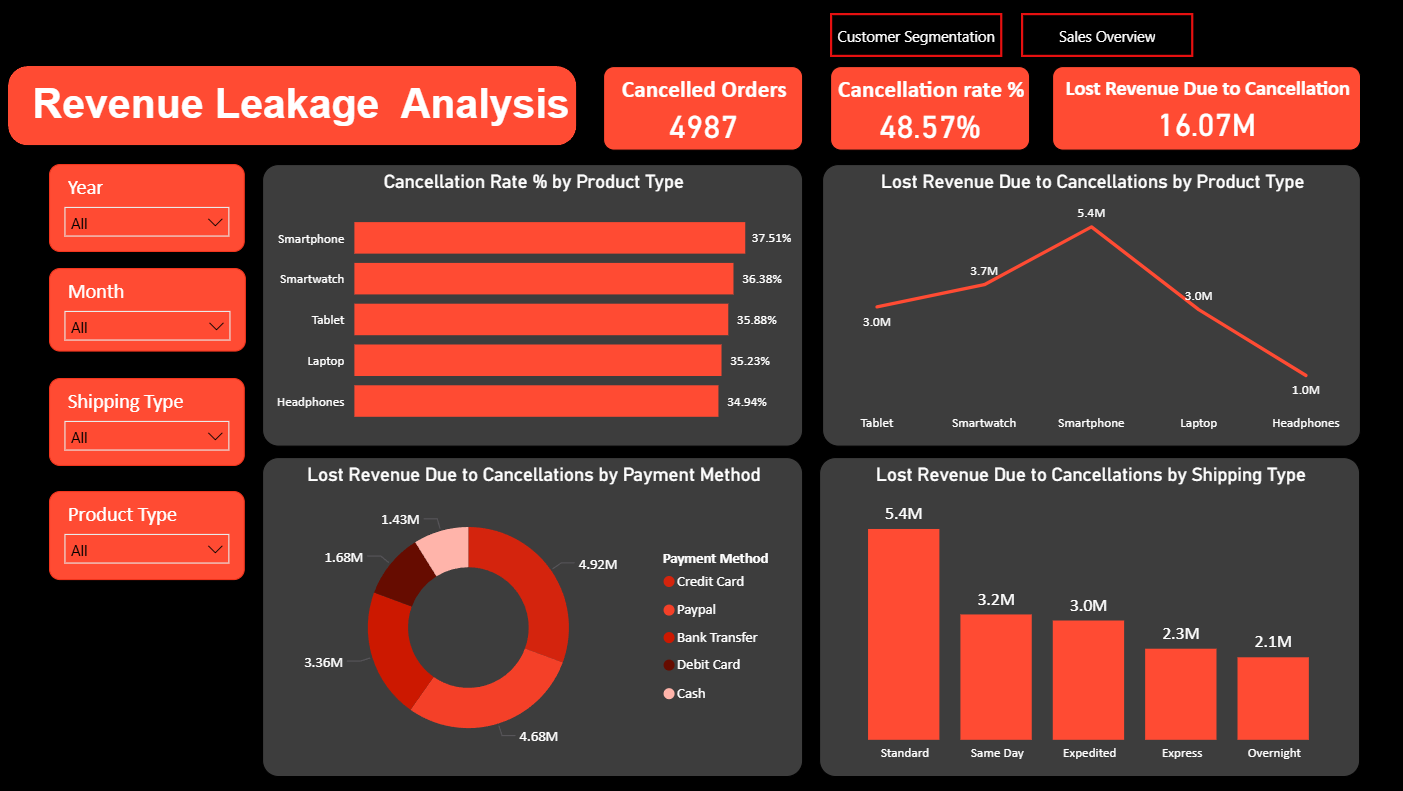

This screenshot's page, from the dashboard's own definition file:
{"tool":"powerbi","page":{"name":"Revenue Leakage","canvas":[1280,720],"ordinal":2},"visuals":[{"type":"card","title":"Cancelled Orders","fields":{"Values":["_measures.Cancelled Orders Count"]},"box":[550,60,182.2,76.7],"z":0},{"type":"card","title":"Cancellation rate %","fields":{"Values":["_measures.Cancellation Rate %"]},"box":[756.7,60,182.2,76.7],"z":1000},{"type":"card","title":"Lost Revenue Due to Cancellation","fields":{"Values":["_measures.Lost Revenue Due to Cancellations"]},"box":[957.8,60,281.1,76.7],"z":2000},{"type":"donutChart","fields":{"Category":["Electronics Sales.Payment Method"],"Y":["_measures.Lost Revenue Due to Cancellations"]},"box":[240.1,415.6,492.2,291.1],"z":3000},{"type":"lineChart","fields":{"Category":["Electronics Sales.Product Type"],"Y":["_measures.Lost Revenue Due to Cancellations"]},"box":[749,148.9,490,256.7],"z":4000},{"type":"clusteredColumnChart","fields":{"Category":["Electronics Sales.Shipping Type"],"Y":["_measures.Lost Revenue Due to Cancellations"]},"box":[746.8,415.6,492.2,291.1],"z":5000},{"type":"clusteredBarChart","fields":{"Category":["Electronics Sales.Product Type"],"Y":["_measures.Cancellation Rate %"]},"box":[240.1,148.9,492.2,256.7],"z":6000},{"type":"shape","box":[8.9,60,516.7,72.2],"z":7000},{"type":"slicer","fields":{"Values":["Electronics Sales.Product Type"]},"box":[46.7,446.7,177.8,81.1],"z":8000},{"type":"slicer","fields":{"Values":["Electronics Sales.Shipping Type"]},"box":[46.7,343.3,177.8,80],"z":9000},{"type":"slicer","fields":{"Values":["Date Table.Year"]},"box":[46.7,148.9,177.8,80],"z":10000},{"type":"textbox","box":[26.7,67.8,605.6,81.1],"z":11000},{"type":"slicer","fields":{"Values":["Date Table.Month"]},"box":[46.7,243.3,178.9,75.6],"z":12000},{"type":"actionButton","box":[756.7,12.2,156.7,40],"z":13000},{"type":"actionButton","box":[930,12.2,156.7,40],"z":14000}]}

Visuals, with their boxes in screenshot pixels (x1, y1, x2, y2), scaled from the page's 1280x720 canvas onto the 1403x791 screenshot:
"Cancelled Orders" card: rect(603, 66, 803, 150)
"Cancellation rate %" card: rect(829, 66, 1029, 150)
"Lost Revenue Due to Cancellation" card: rect(1050, 66, 1358, 150)
donutChart - Electronics Sales.Payment Method x _measures.Lost Revenue Due to Cancellations: rect(263, 457, 803, 776)
lineChart - Electronics Sales.Product Type x _measures.Lost Revenue Due to Cancellations: rect(821, 164, 1358, 446)
clusteredColumnChart - Electronics Sales.Shipping Type x _measures.Lost Revenue Due to Cancellations: rect(819, 457, 1358, 776)
clusteredBarChart - Electronics Sales.Product Type x _measures.Cancellation Rate %: rect(263, 164, 803, 446)
shape: rect(10, 66, 576, 145)
slicer - Electronics Sales.Product Type: rect(51, 491, 246, 580)
slicer - Electronics Sales.Shipping Type: rect(51, 377, 246, 465)
slicer - Date Table.Year: rect(51, 164, 246, 251)
textbox: rect(29, 74, 693, 164)
slicer - Date Table.Month: rect(51, 267, 247, 350)
actionButton: rect(829, 13, 1001, 57)
actionButton: rect(1019, 13, 1191, 57)
